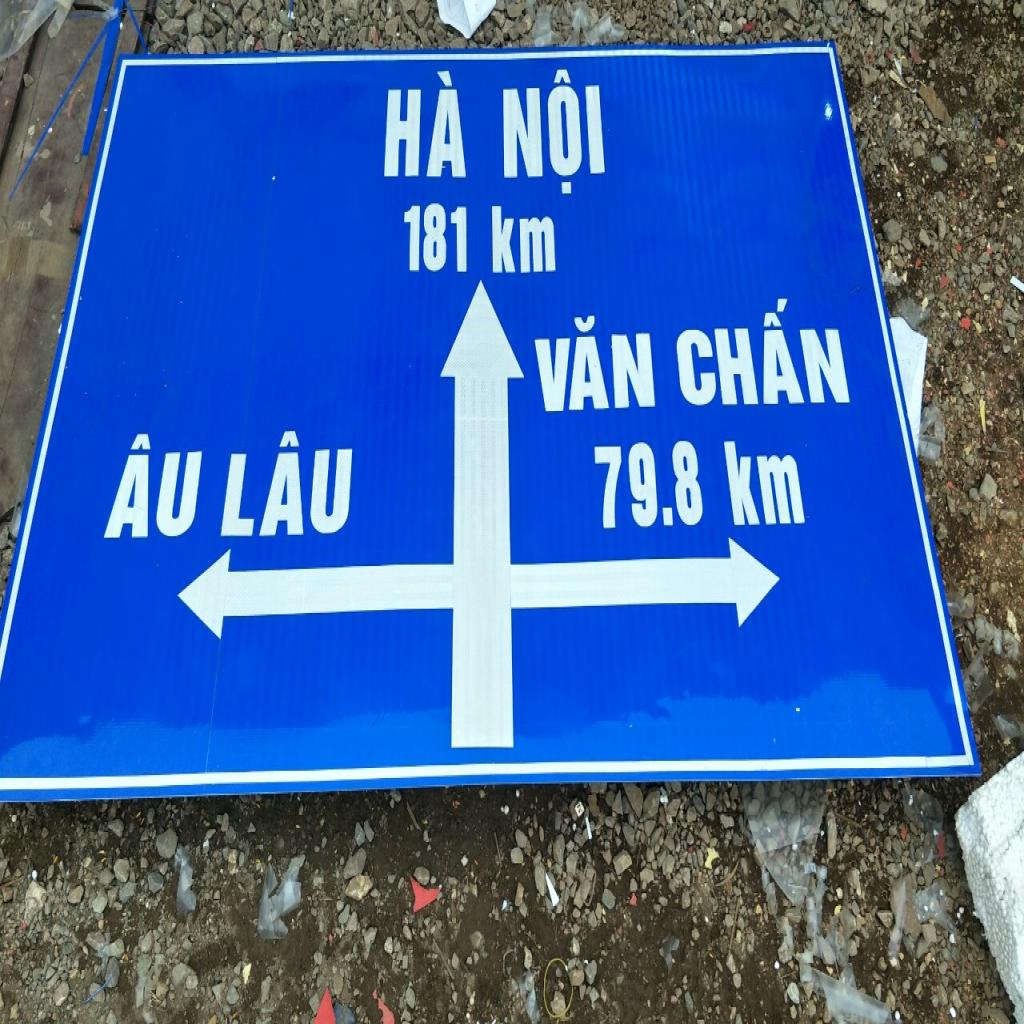text: (671, 297, 853, 408), (218, 427, 356, 539), (500, 67, 609, 196), (531, 313, 657, 415), (102, 432, 208, 540), (594, 437, 706, 532), (382, 70, 469, 180), (401, 200, 469, 276), (489, 204, 558, 274)
